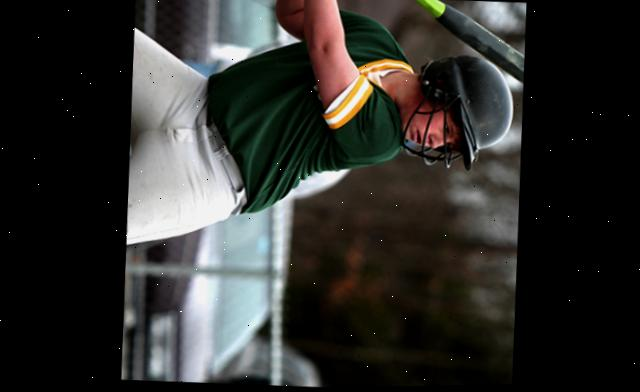baseball bat: (296, 0, 527, 92)
